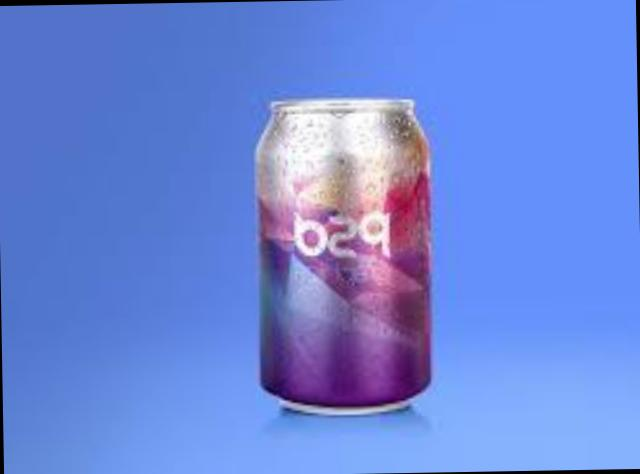metal: (262, 96, 433, 408)
